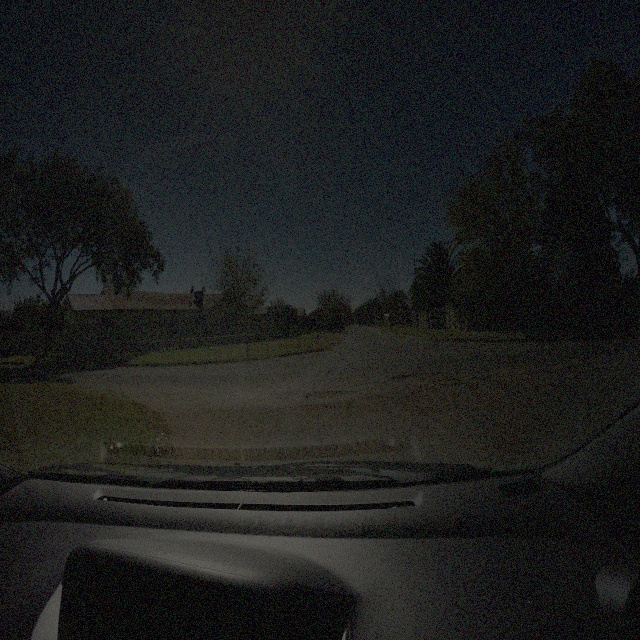pothole: (388, 368, 448, 382), (301, 385, 352, 399)
